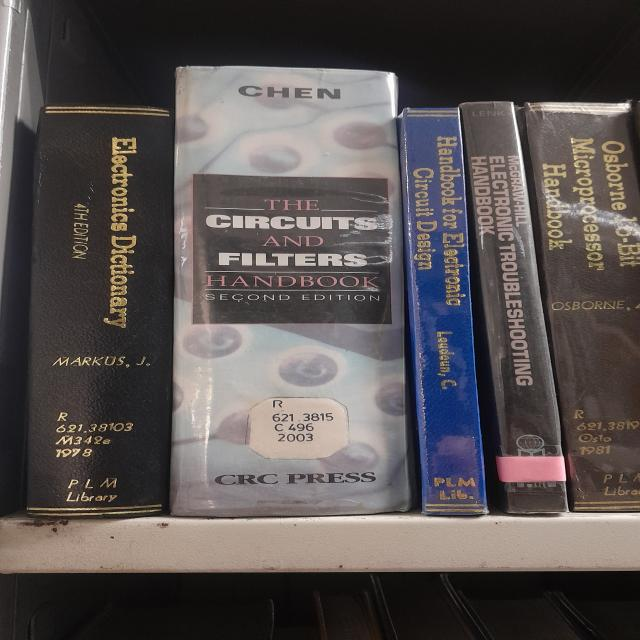book: (170, 66, 416, 517), (26, 104, 174, 519), (524, 101, 640, 511), (459, 102, 568, 514), (398, 108, 488, 515)
